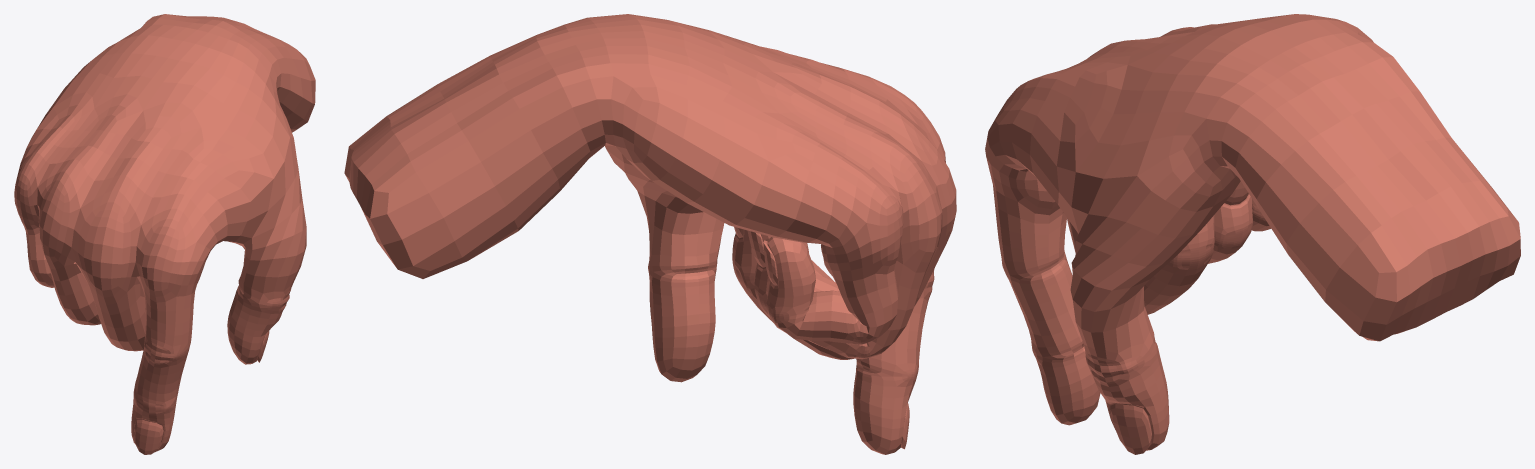
The model's file is kaf n.glb.
3 views of the same model, side by side, from view 1: azimuth 30°, elevation 25°; view 2: azimuth 150°, elevation 25°; view 3: azimuth 270°, elevation 25° (orthographic). The views are drawn at different scales.
Visible parts, largest first — view 1: ZBrushPolyMesh3D; view 2: ZBrushPolyMesh3D; view 3: ZBrushPolyMesh3D.
Boxes of the visible parts, x1,y1,x2,y2 form: ZBrushPolyMesh3D: (14,14,315,454); ZBrushPolyMesh3D: (344,14,956,454); ZBrushPolyMesh3D: (985,14,1520,454).
Size of the model in its own units: 3.19 by 2.91 by 3.06.
